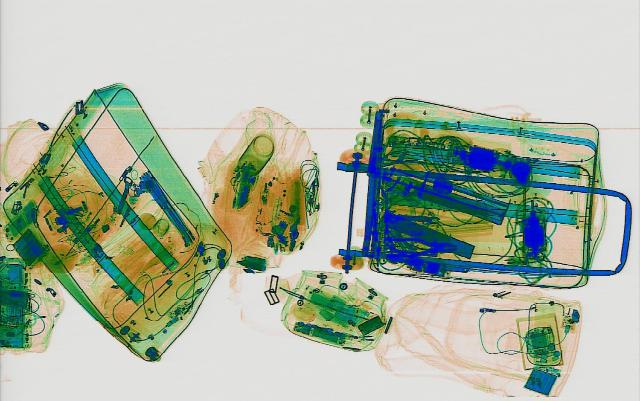Pliers: (384, 235, 460, 255)
